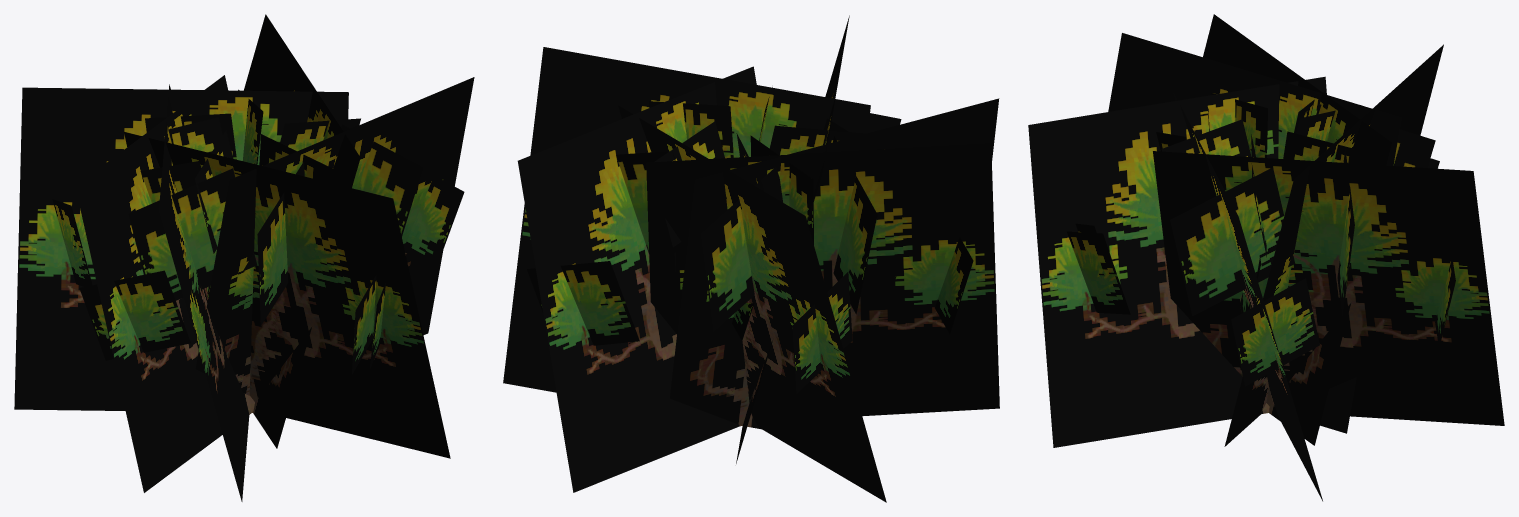
The model's file is Tropics Bush.fbx.
The picture shows the model from 3 angles, left to right: view 1: azimuth 30°, elevation 25°; view 2: azimuth 150°, elevation 25°; view 3: azimuth 270°, elevation 25°; orthographic projection. The views are drawn at different scales.
Parts seen in each view (by area): view 1: Tropics Bush; view 2: Tropics Bush; view 3: Tropics Bush.
Part boxes in pixels (x1,y1,x2,y2): Tropics Bush: [14, 14, 474, 501]; Tropics Bush: [503, 15, 999, 502]; Tropics Bush: [1028, 14, 1504, 501].
Bounding box in the file's own units: 700 × 484 × 697.
